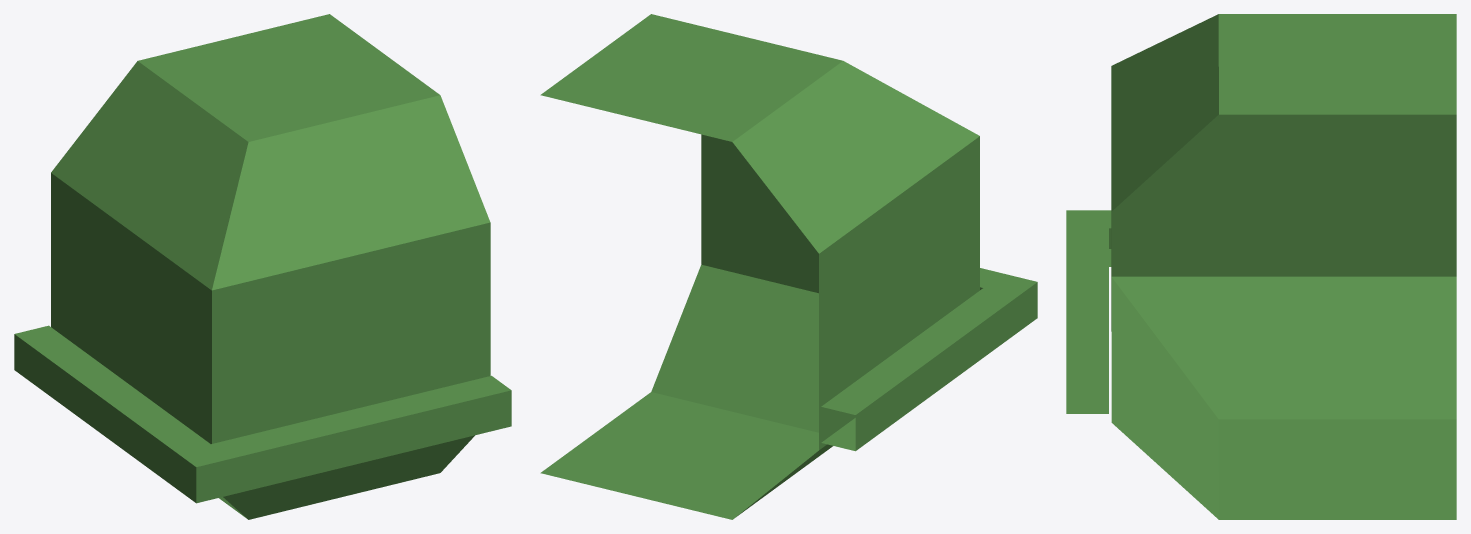
The model's file is parapet corner out.FBX.
3 views of the same model, side by side, from view 1: azimuth 30°, elevation 25°; view 2: azimuth 150°, elevation 25°; view 3: azimuth 270°, elevation 25° (orthographic). The views are drawn at different scales.
Parts seen in each view (by area): view 1: Object333; view 2: Object333; view 3: Object333.
Part boxes in pixels (<box>): Object333: <box>14,14,511,519</box>; Object333: <box>540,14,1037,519</box>; Object333: <box>1066,14,1456,519</box>.
Size of the model in its own units: 0.4367 by 0.5 by 0.4365.
